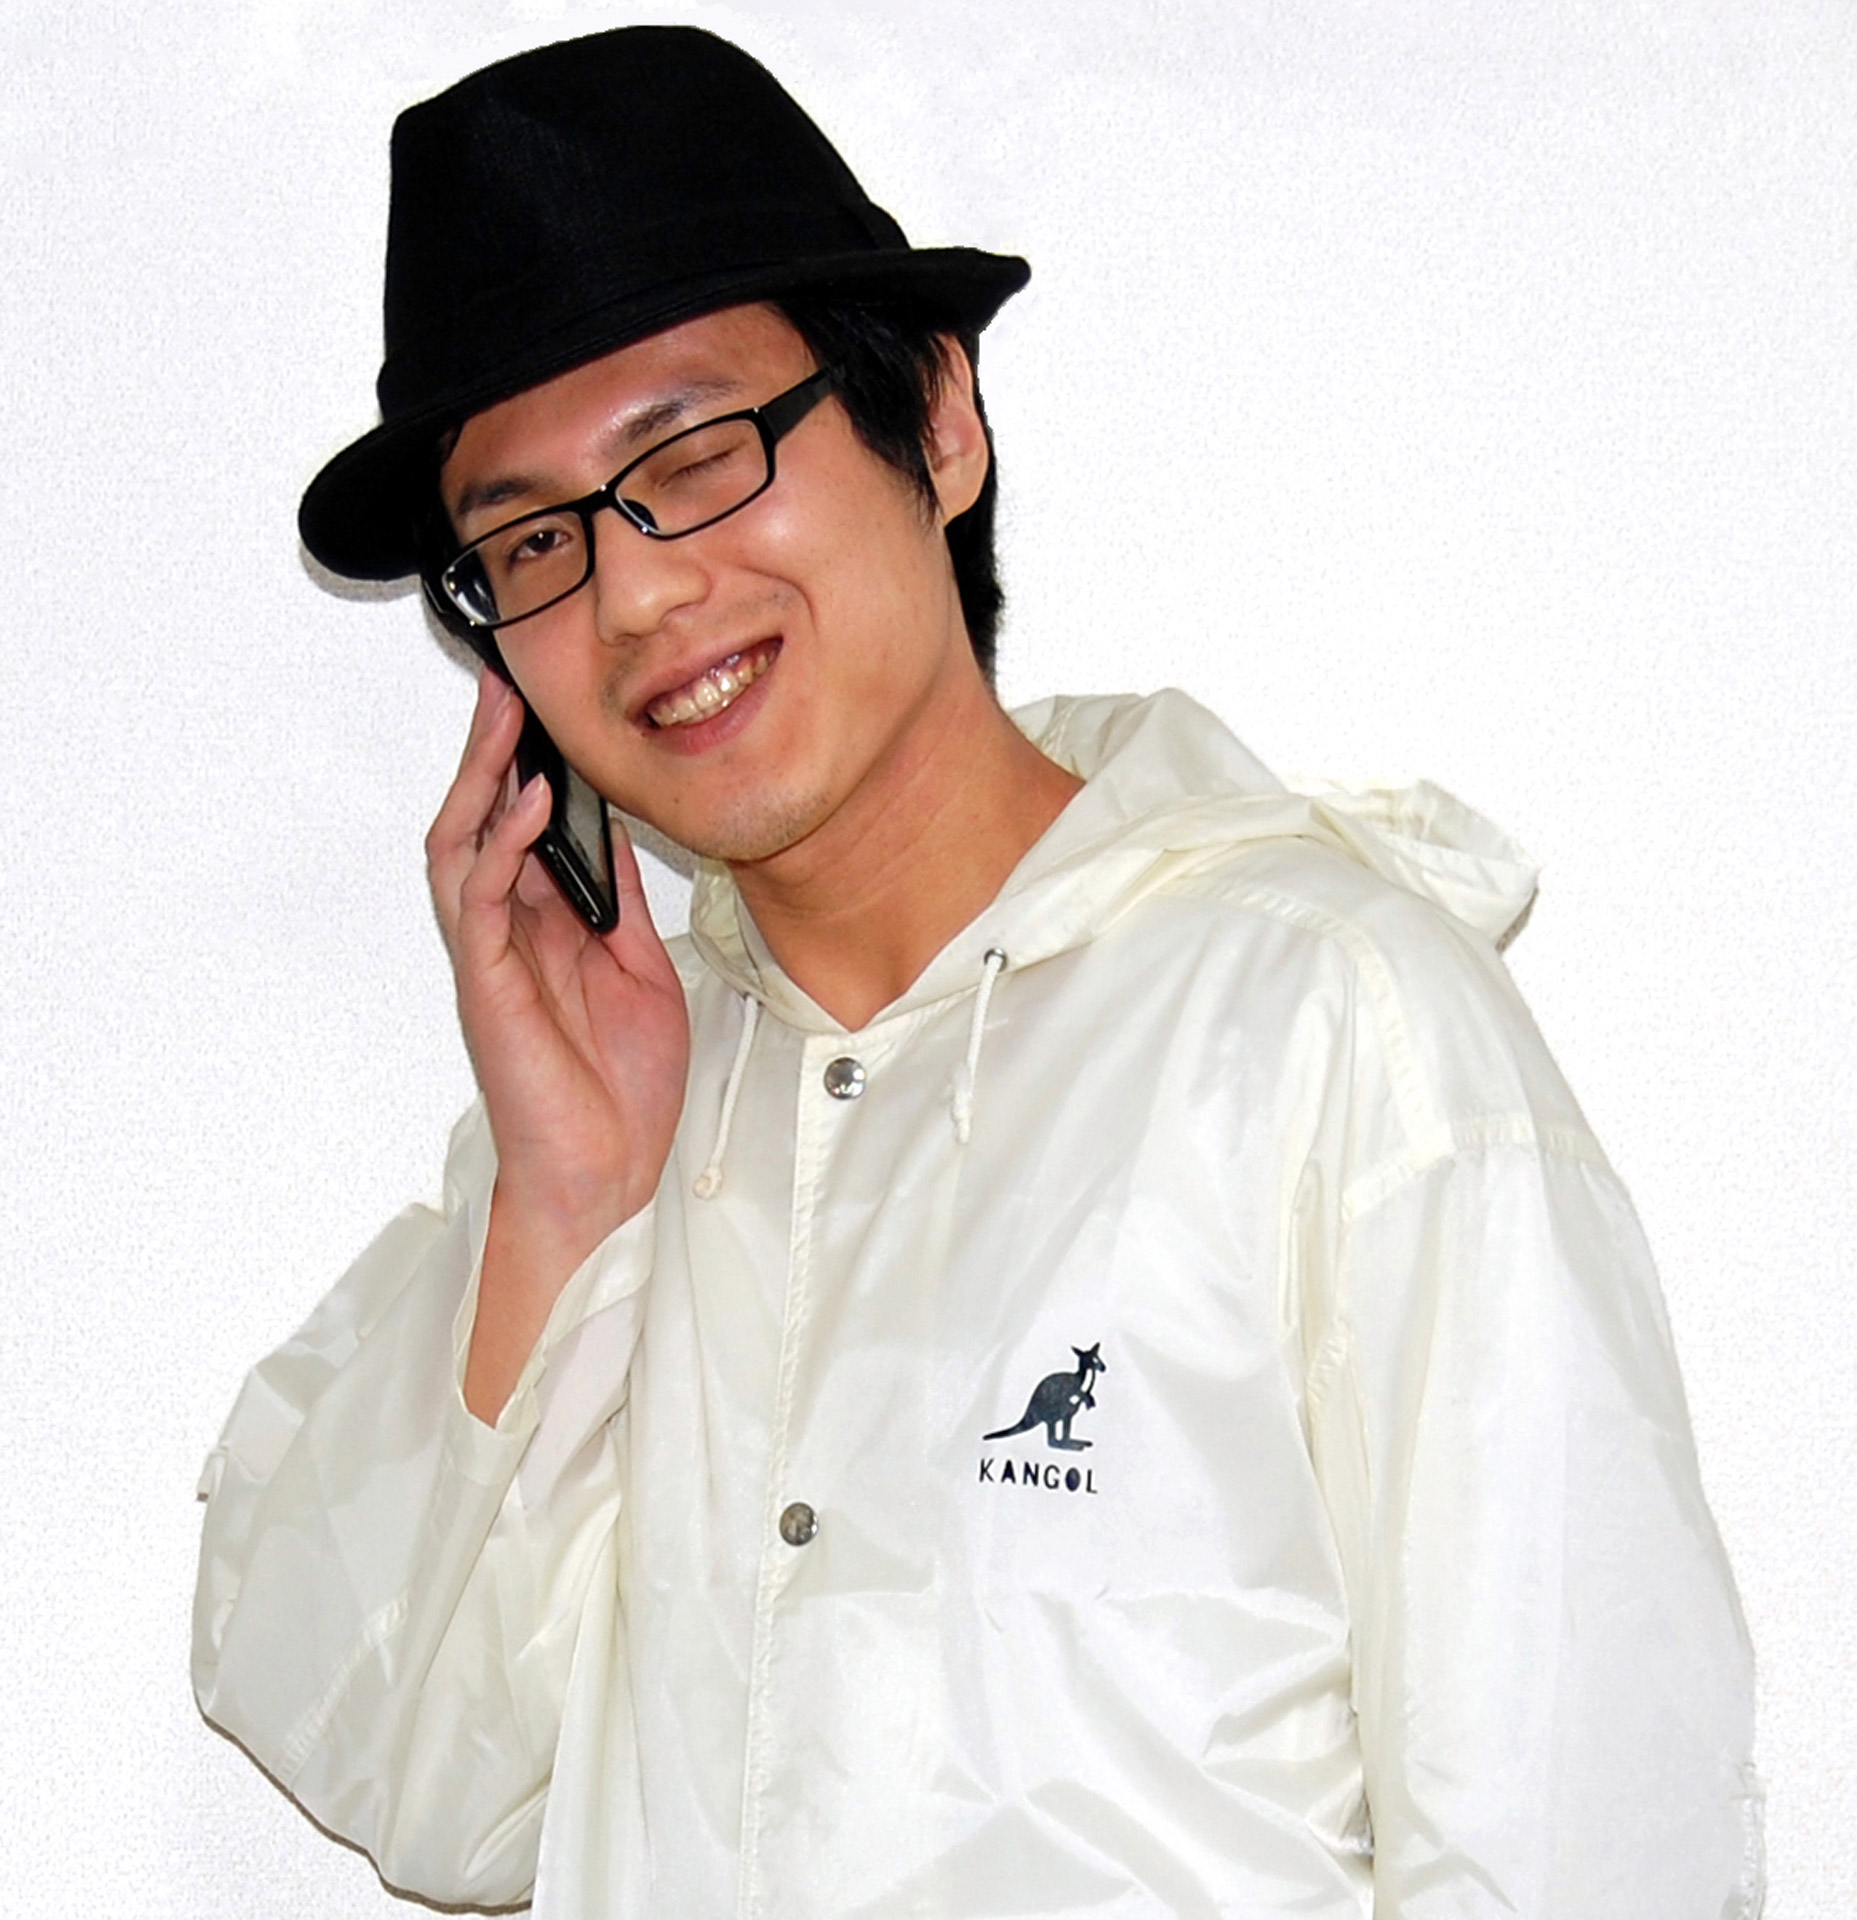phone: (454, 658, 664, 993)
talk: (394, 372, 935, 1190)
